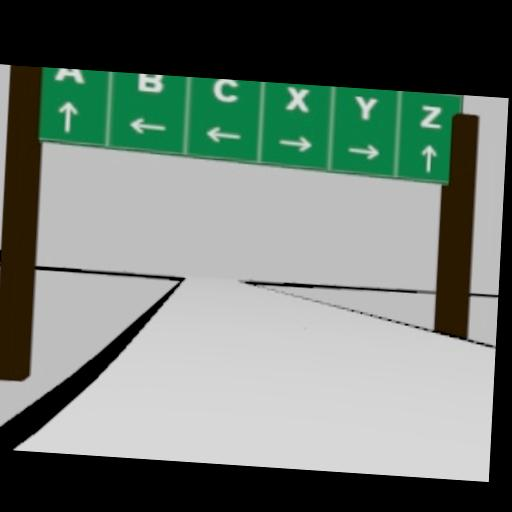A: (53, 68, 85, 84)
B: (136, 74, 165, 93)
C: (212, 78, 239, 102)
Left: (129, 116, 167, 136), (204, 125, 243, 144)
Right: (277, 133, 314, 153), (346, 141, 379, 160)
Straight: (58, 100, 79, 132), (420, 144, 437, 172)
X: (284, 85, 310, 111)
Y: (353, 95, 378, 120)
Z: (419, 102, 442, 128)
